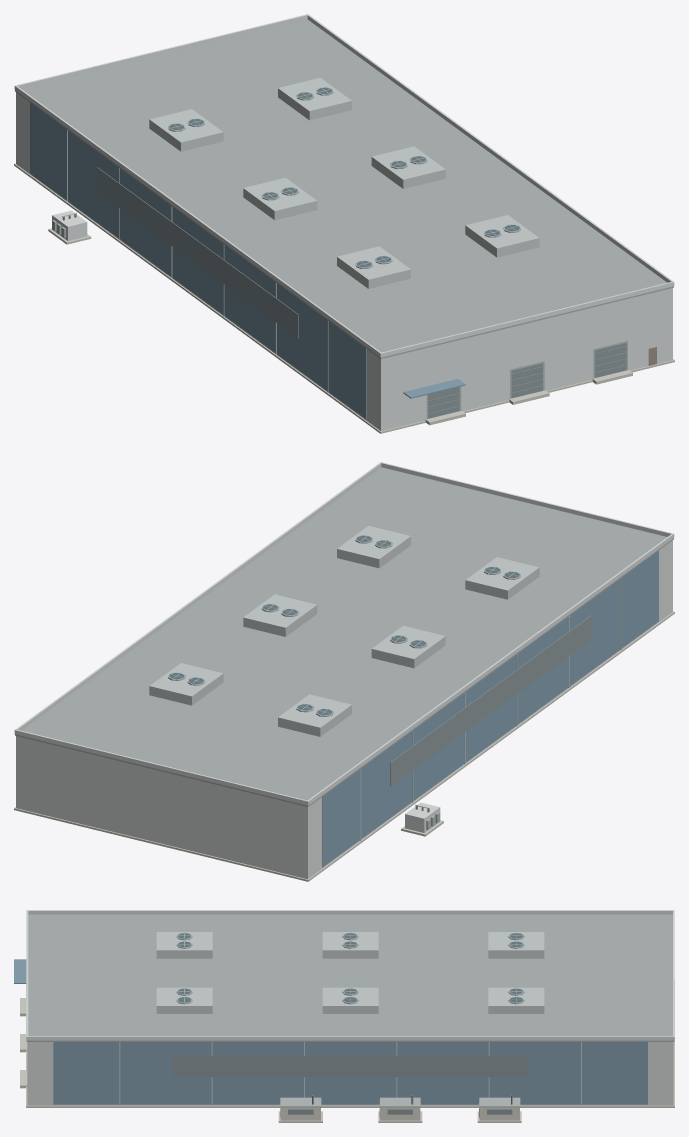
File: dc-cloud-hall.glb
The picture shows the model from 3 angles, top to bottom: view 1: azimuth 30°, elevation 25°; view 2: azimuth 150°, elevation 25°; view 3: azimuth 270°, elevation 25°; orthographic projection. The views are drawn at different scales.
Parts seen in each view (by area): view 1: dc-cloud-hall; view 2: dc-cloud-hall; view 3: dc-cloud-hall.
Boxes of the visible parts, x1,y1,x2,y2 form: dc-cloud-hall: (14,14,674,433); dc-cloud-hall: (14,462,674,881); dc-cloud-hall: (14,910,674,1122).
Bounding box in the file's own units: 60.9 × 13.6 × 106.
